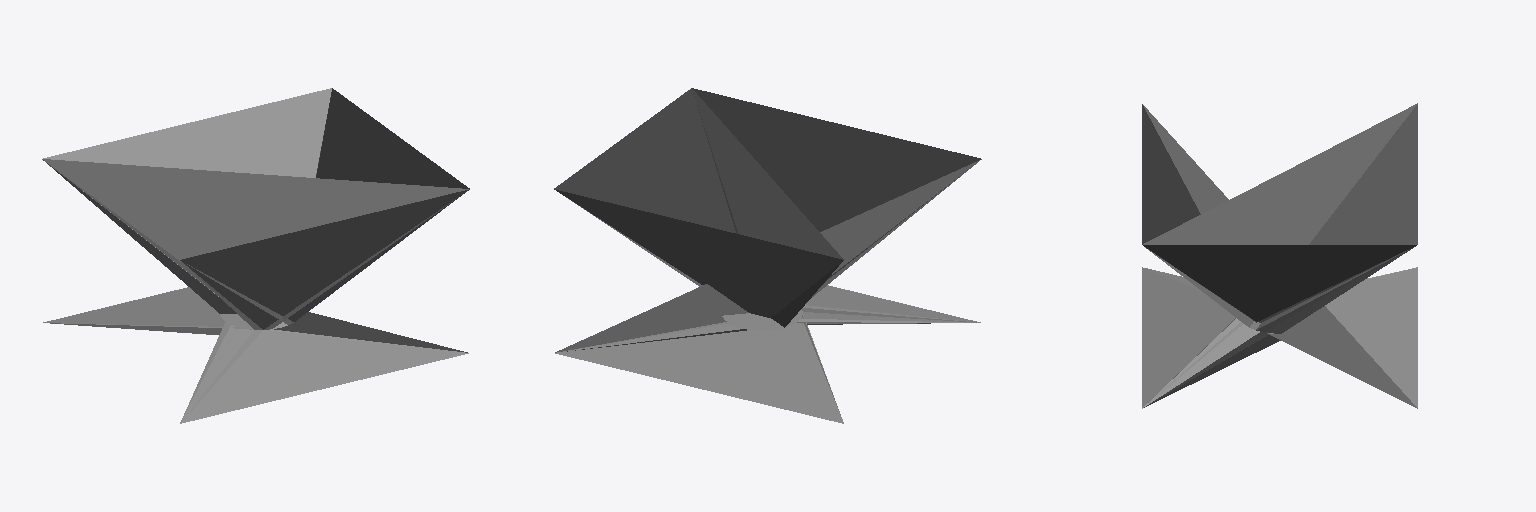
File: bucket.obj
3 views of the same model, side by side, from view 1: azimuth 30°, elevation 25°; view 2: azimuth 150°, elevation 25°; view 3: azimuth 270°, elevation 25° (orthographic).
Parts seen in each view (by area): view 1: Object01, Tube01, Torus02; view 2: Torus02, Object01, Tube01, Circle01; view 3: Tube01, Torus02, Object01.
Part boxes in pixels (bbox=[...]): Object01: bbox=[42, 88, 468, 422]; Tube01: bbox=[180, 189, 469, 423]; Torus02: bbox=[43, 88, 469, 352]; Torus02: bbox=[554, 88, 980, 351]; Object01: bbox=[555, 159, 981, 423]; Tube01: bbox=[566, 89, 980, 322]; Circle01: bbox=[723, 310, 802, 330]; Tube01: bbox=[1142, 103, 1417, 408]; Torus02: bbox=[1142, 104, 1416, 407]; Object01: bbox=[1143, 104, 1417, 407].
Bounding box in the file's own units: 2728 × 1472 × 2247.